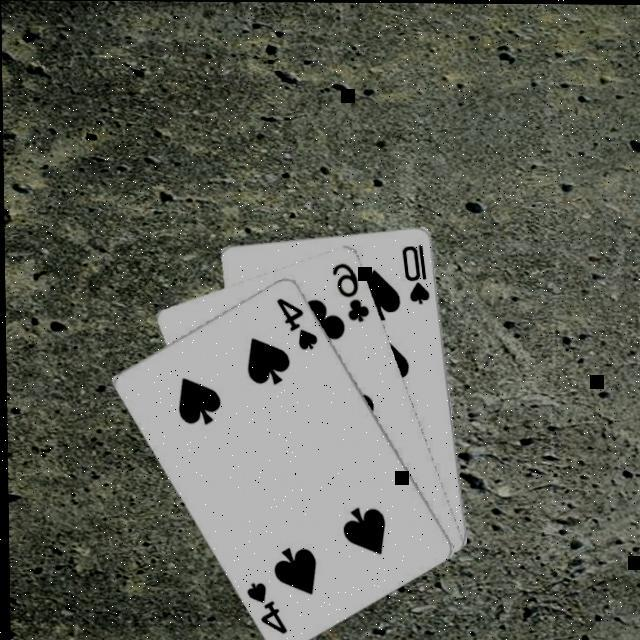10S: (396, 239, 431, 305)
4S: (270, 292, 317, 350), (239, 577, 286, 634)
6C: (326, 258, 370, 324)
